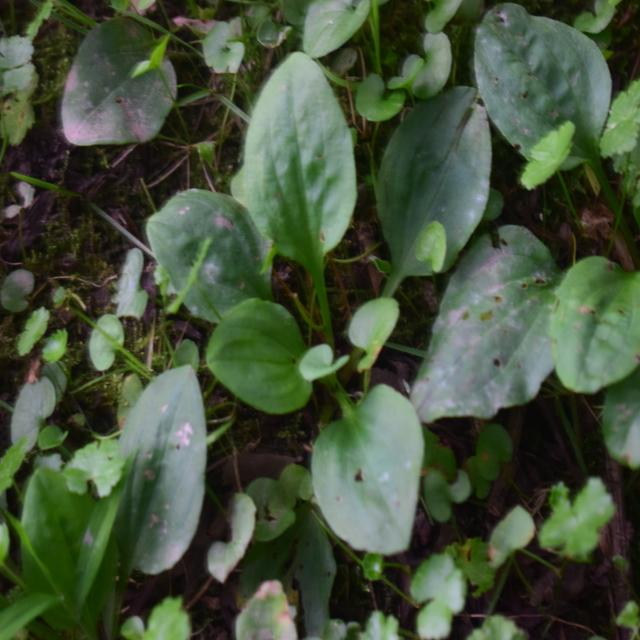plantain: (180, 67, 468, 523)
